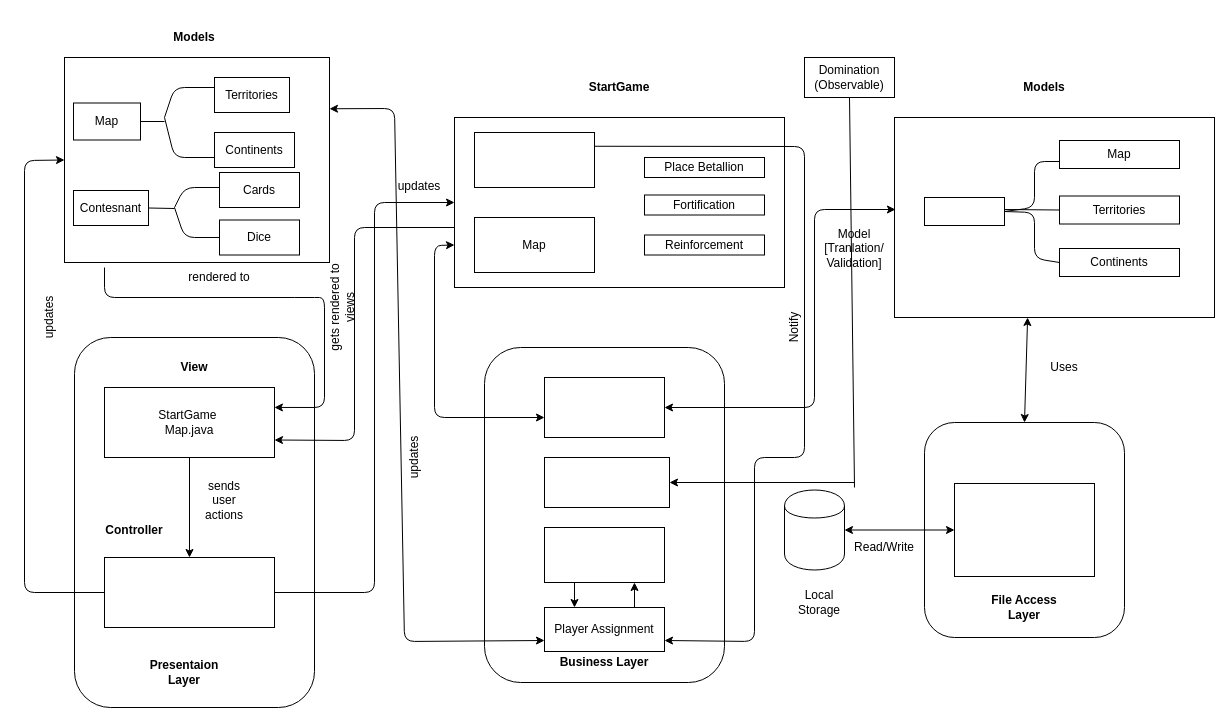
Some shapes in this 1232 by 725 pixel diagram are drawn without their labels. Here are the shapes that lost their labels. From the top down, the box of each, then its label:
(474, 132, 594, 188): Contestant
(924, 196, 1004, 226): File
(544, 376, 664, 438): MapBuild Controller
(544, 456, 670, 508): World Domination View (observer)
(954, 482, 1094, 576): User.Map file
(544, 526, 664, 582): StartGame Controller
(104, 556, 274, 628): StartGame Controller MapBuild Controller
